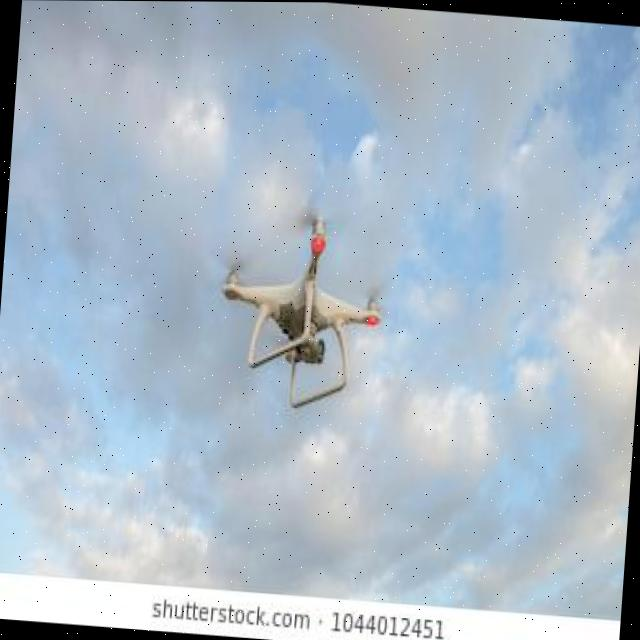drone: (103, 119, 470, 492)
